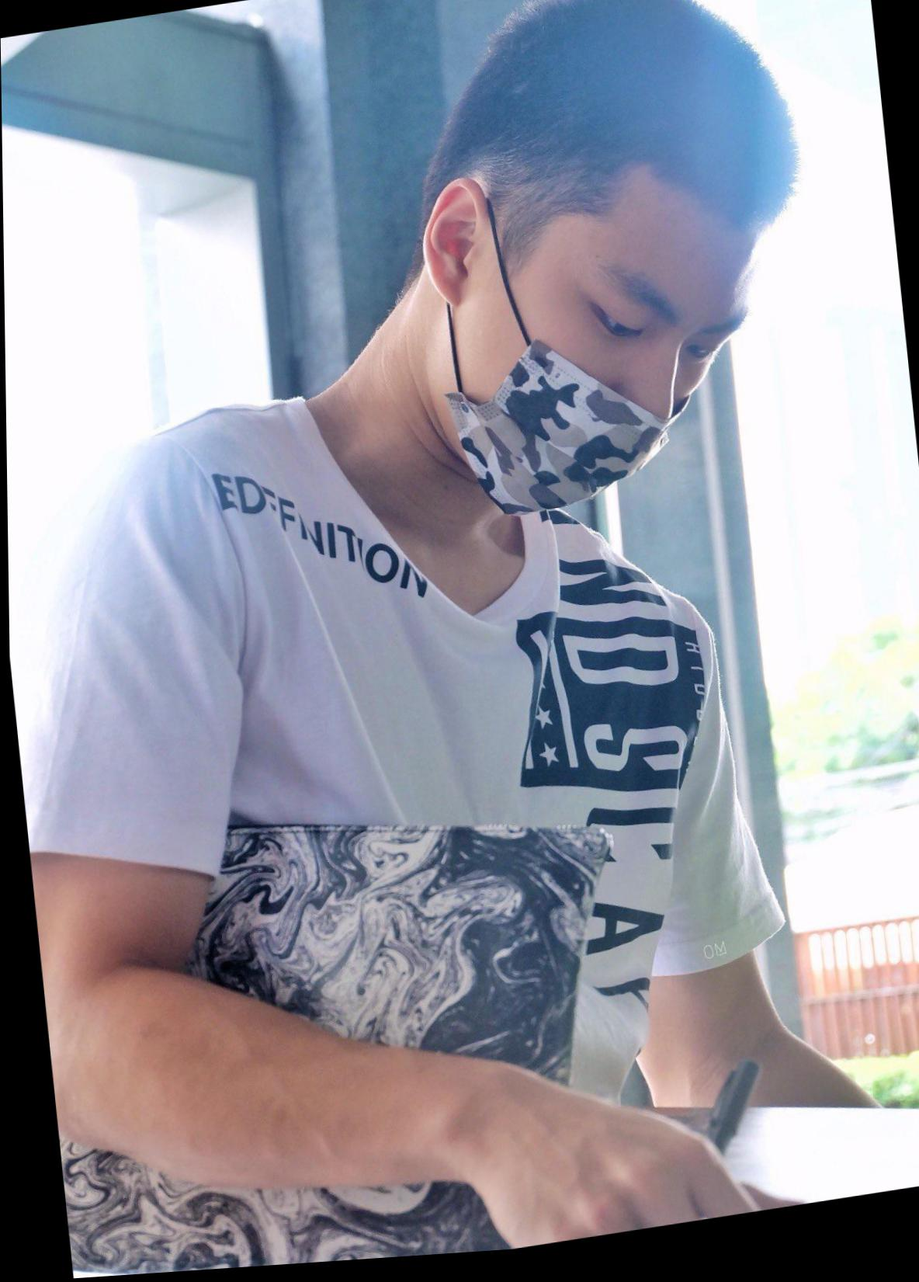WRONG: (439, 207, 767, 540)
